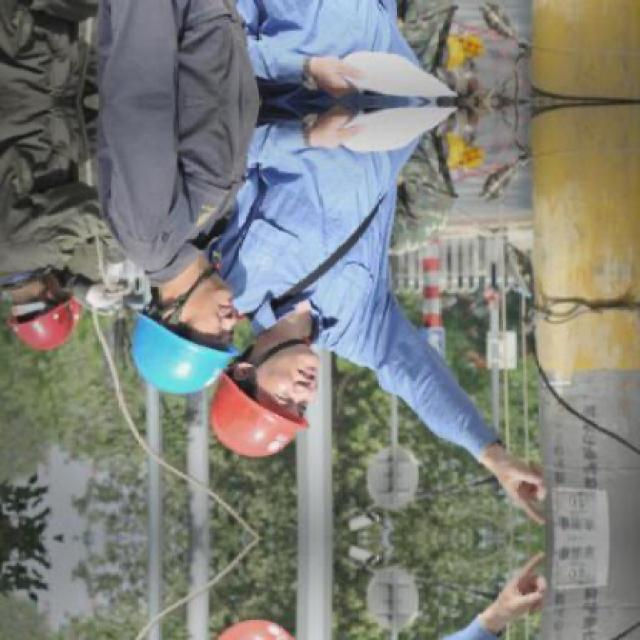con casco: (114, 242, 246, 398), (232, 338, 340, 460)
